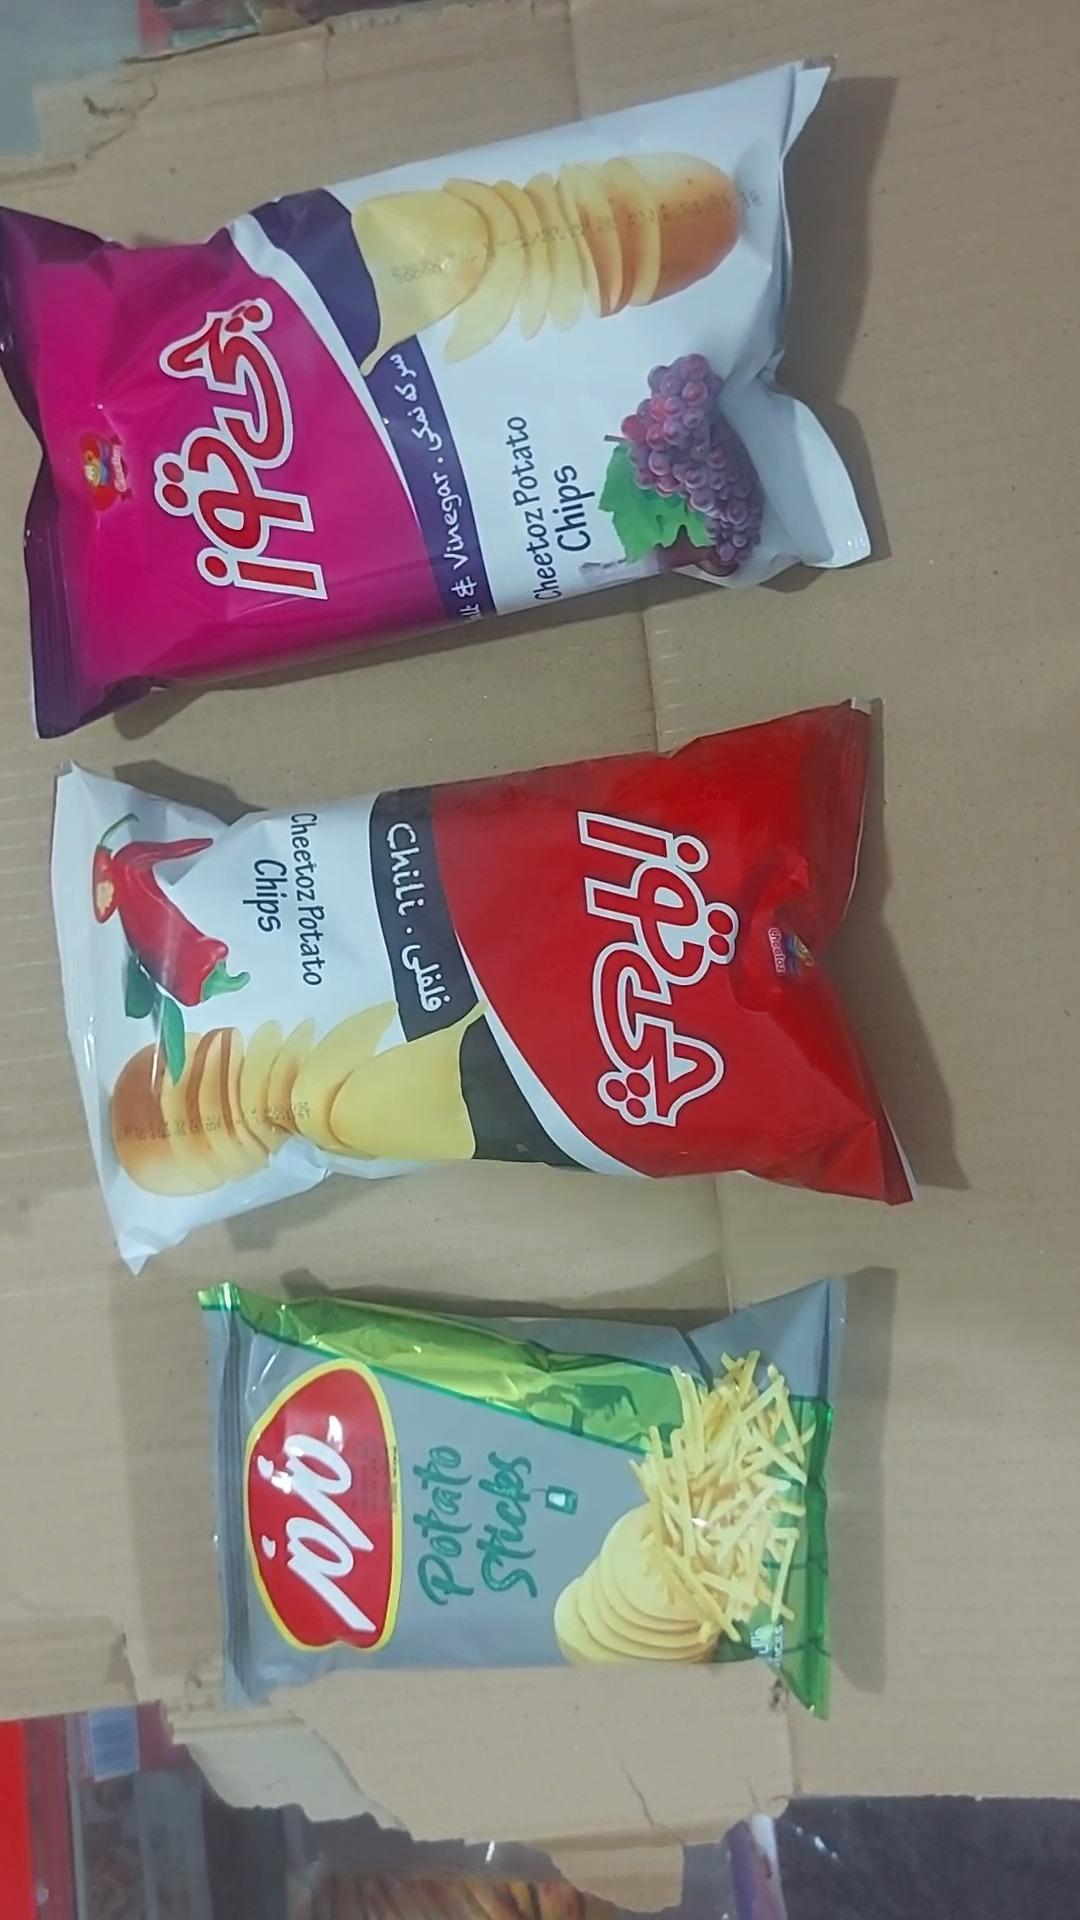Cheetoz chili chips: (49, 703, 914, 1274)
Cheetoz vinegar chips: (0, 61, 872, 741)
Maz Maz potato sticks: (196, 1279, 847, 1720)
